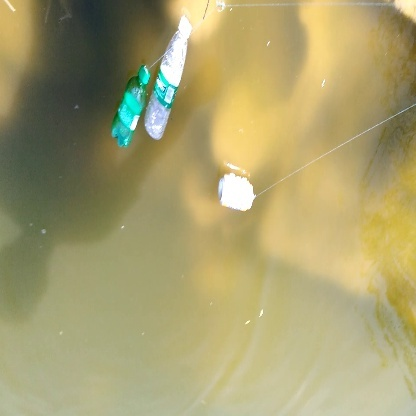bottle: (107, 65, 149, 154), (215, 171, 259, 215)
